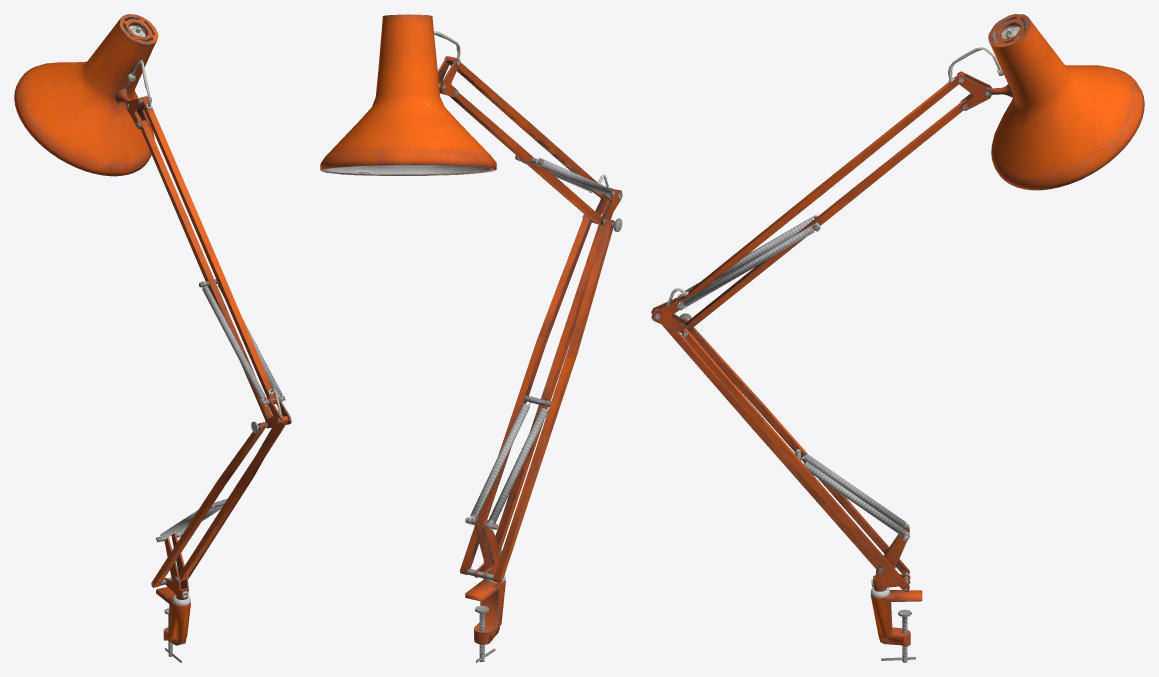
File: desk_lamp_arm_01.glb
The picture shows the model from 3 angles, left to right: view 1: azimuth 30°, elevation 25°; view 2: azimuth 150°, elevation 25°; view 3: azimuth 270°, elevation 25°; orthographic projection. The views are drawn at different scales.
Visible parts, largest first — view 1: desk_lamp_arm_01; view 2: desk_lamp_arm_01; view 3: desk_lamp_arm_01.
Part boxes in pixels (box(x1,y1,x2,y2)): desk_lamp_arm_01: box(14, 14, 291, 662); desk_lamp_arm_01: box(320, 14, 622, 662); desk_lamp_arm_01: box(651, 14, 1144, 662).
Size of the model in its own units: 0.2017 by 0.8926 by 0.6139.
Materials: 2 (2 with a texture image).
